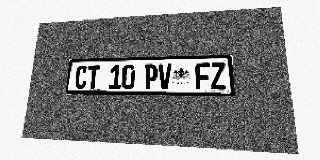0: (121, 64, 135, 89)
1: (108, 64, 122, 89)
C: (74, 65, 88, 89)
F: (195, 63, 210, 90)
P: (144, 64, 158, 89)
T: (86, 65, 100, 89)
V: (158, 63, 172, 89)
Z: (210, 62, 226, 90)
